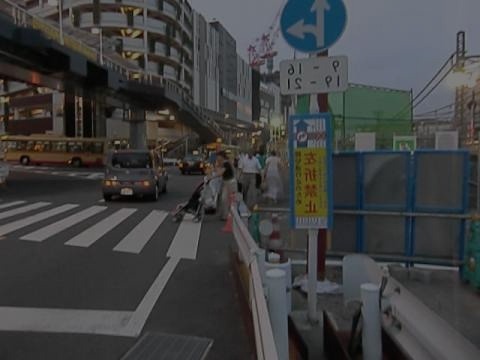Direction_sign: (276, 1, 360, 49)
